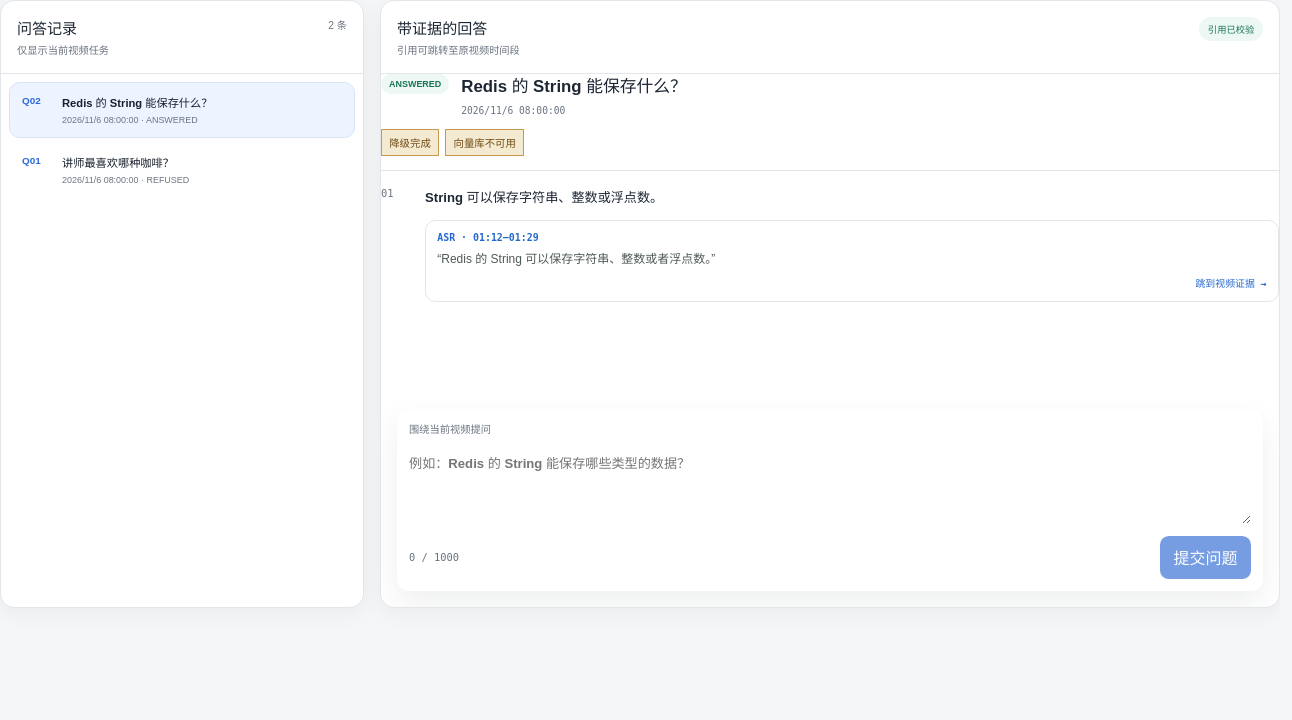
Test case: AnswerWorkspace › uses a job-scoped history rail and renders only the selected answer in the reader
The image size is (1292, 720).
Expected: the element with test id "answer-history-panel" shows "Redis 的 String 能保存什么？", x1=9 y1=82 x2=355 y2=138
Expected: the element with test id "answer-reader-panel" shows "String 可以保存", x1=425 y1=190 x2=663 y2=205
Click the button "Q01 讲师最喜欢哪种咖啡？ 2026/11/6 08:00:00 · REFUSED" at coordinates (118, 163), box x1=9 y1=142 x2=355 y2=198
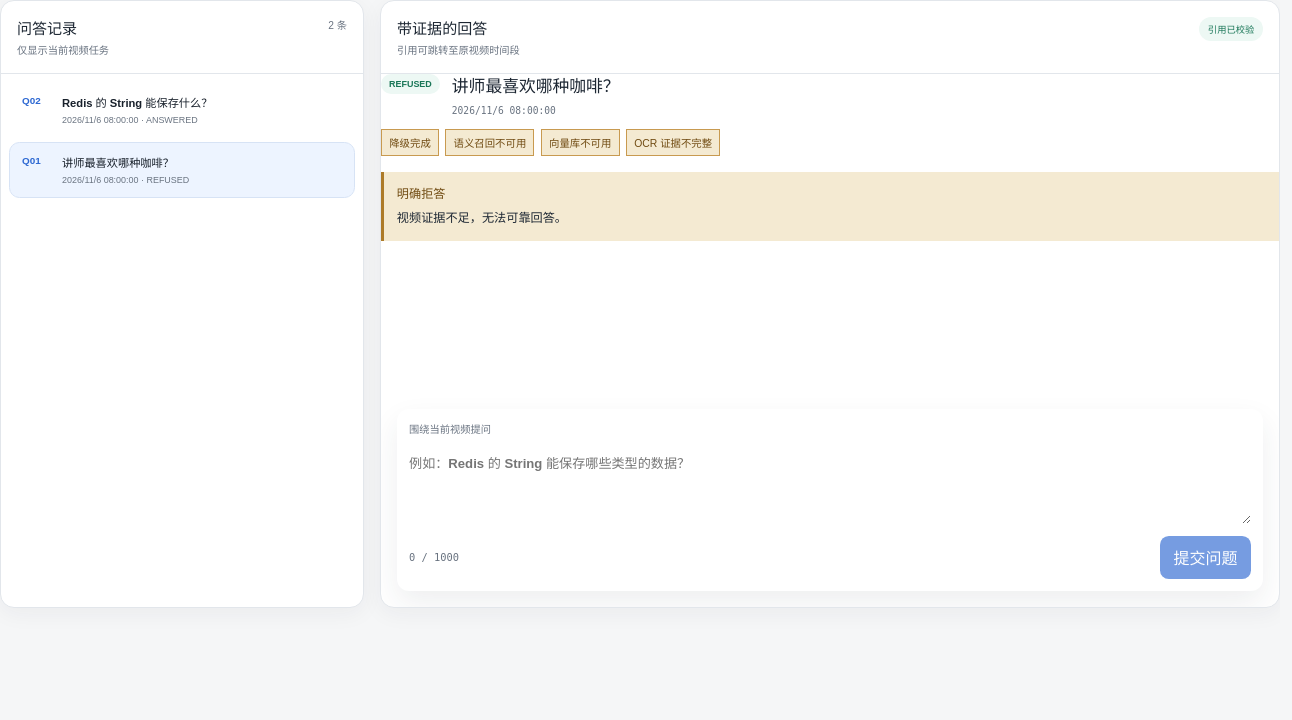
Expected: the element with test id "answer-reader-panel" shows "讲师最喜欢哪种咖啡？", x1=452 y1=77 x2=620 y2=96
Expected: the message with test id "answer-refused" shows "视频证据不足", x1=397 y1=211 x2=567 y2=225
